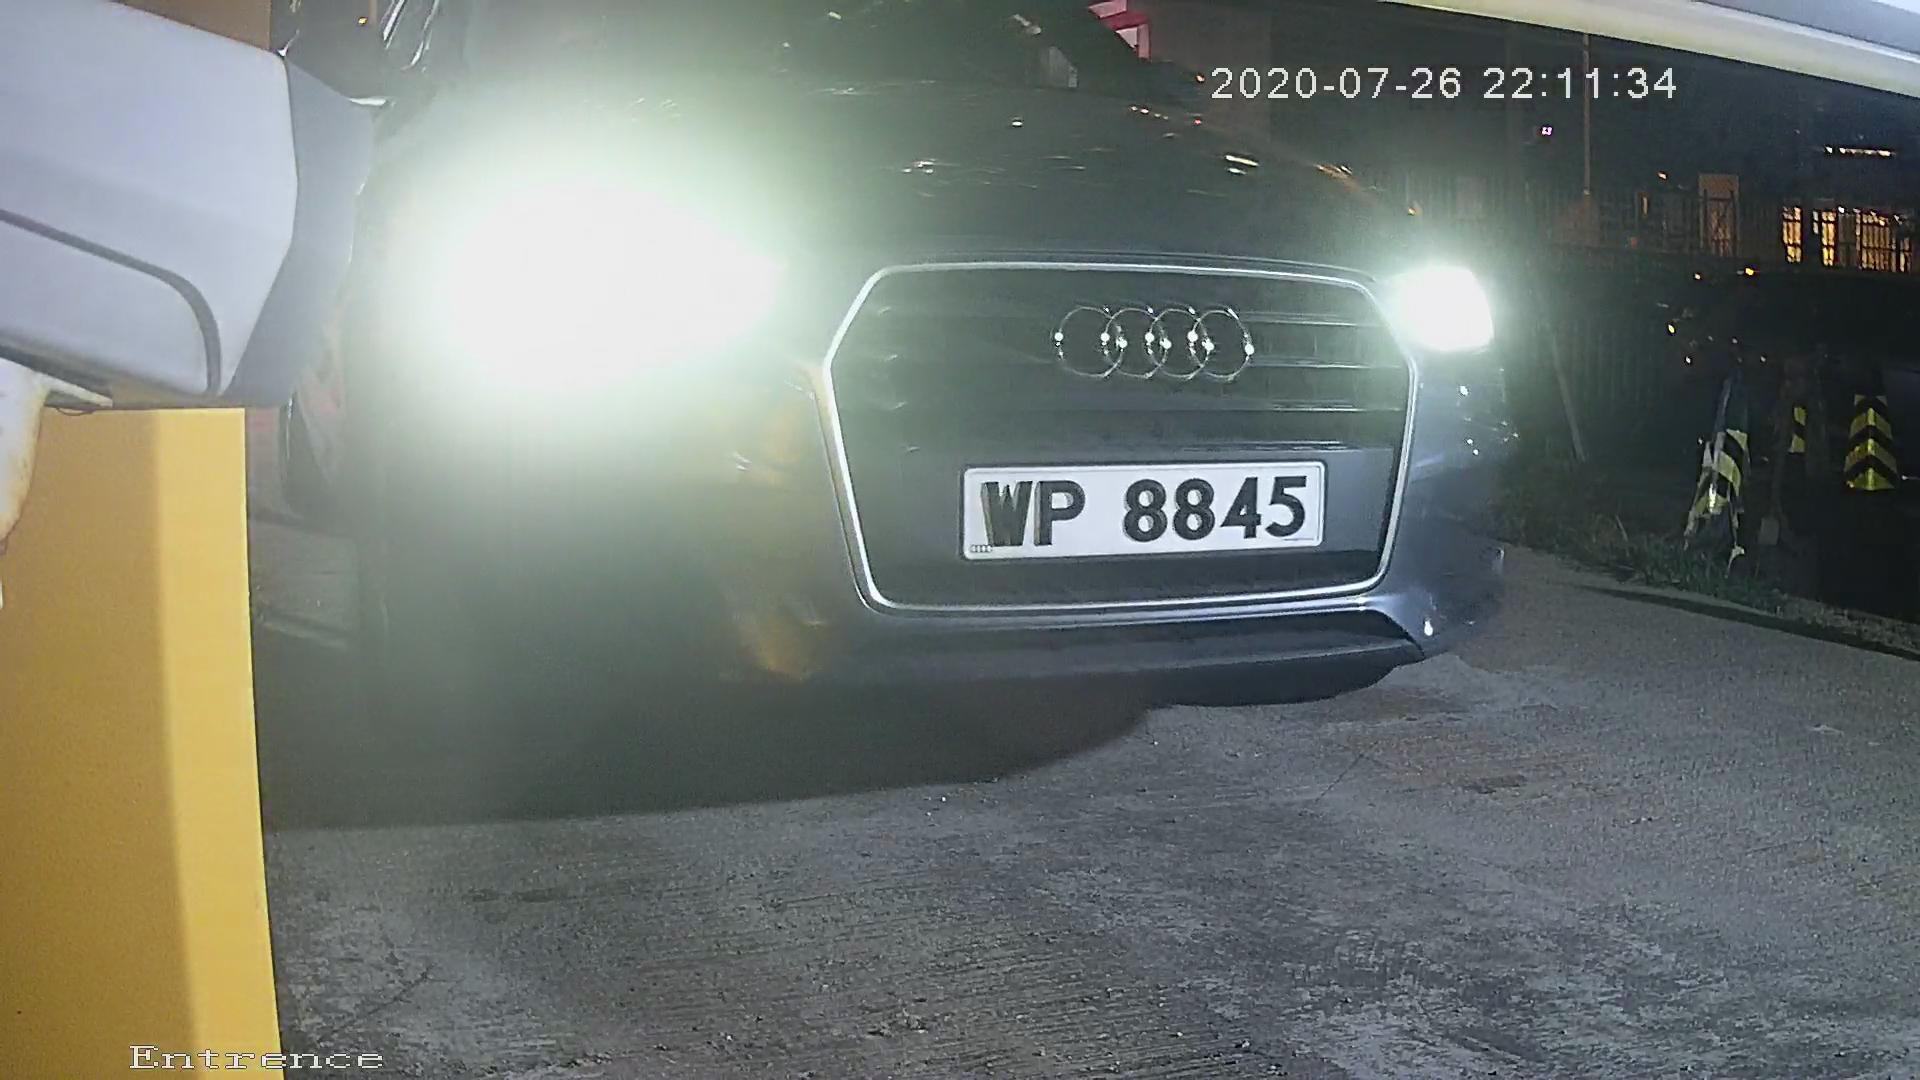Car: (86, 54, 1629, 811)
License Plate: (935, 439, 1329, 574)
